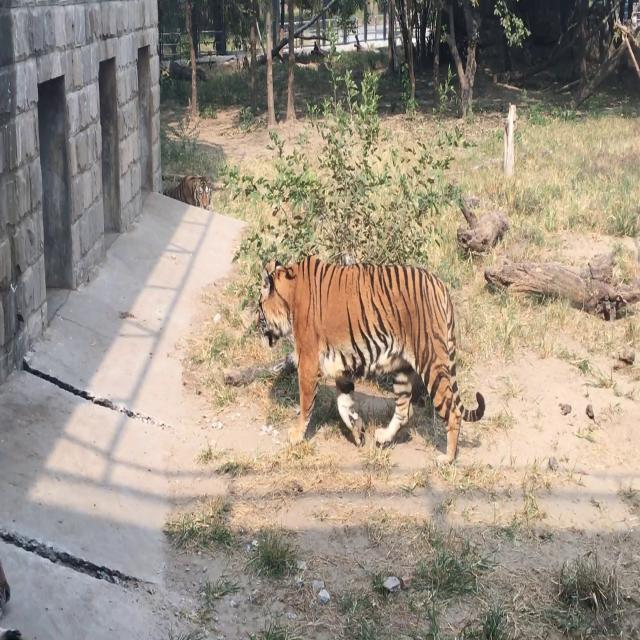Tiger: (250, 237, 494, 471), (161, 153, 220, 218)
